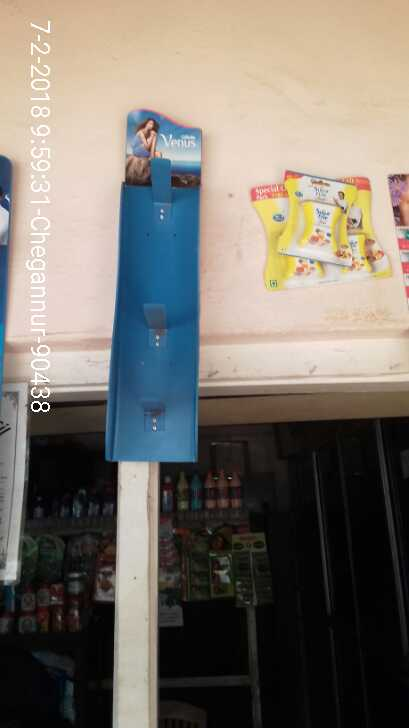reject: (147, 292, 207, 356)
